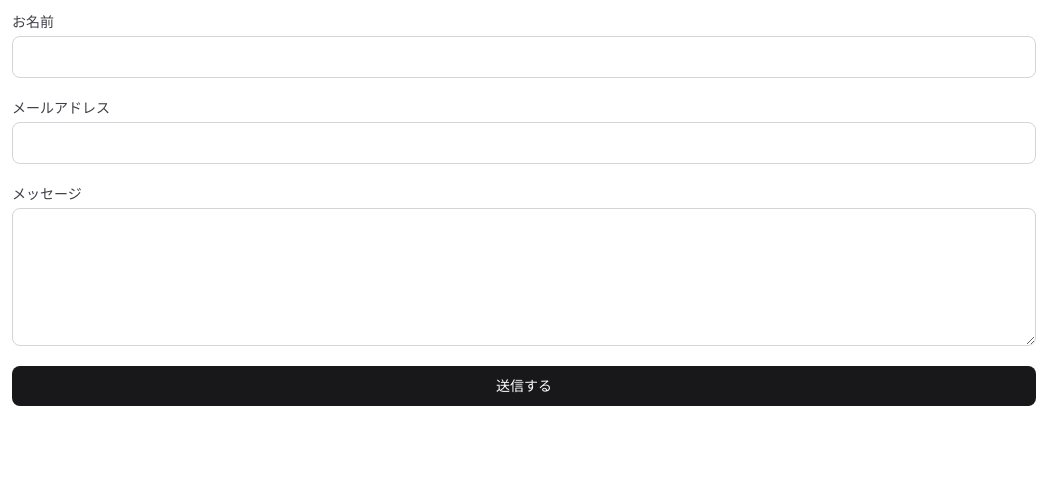
it: ContactForm › 送信失敗時にサーバーエラーメッセージを表示する
In the field labelled "お名前": (524,57) x1=12 y1=36 x2=1036 y2=78, type "テスト太郎"
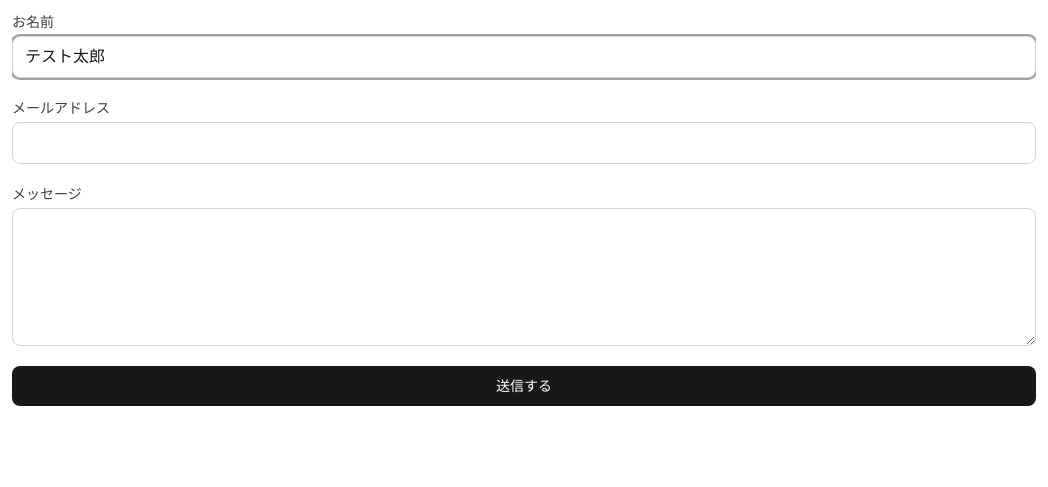
In the field labelled "メールアドレス": (524,143) x1=12 y1=122 x2=1036 y2=164, type "test@example.com"
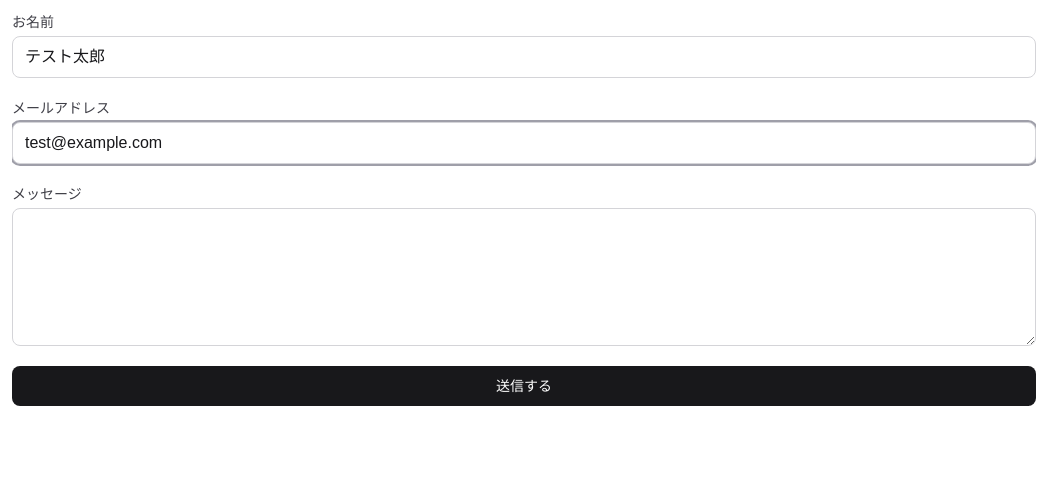
In the text box labelled "メッセージ": (524,277) x1=12 y1=208 x2=1036 y2=346, type "これはテストメッセージです。"
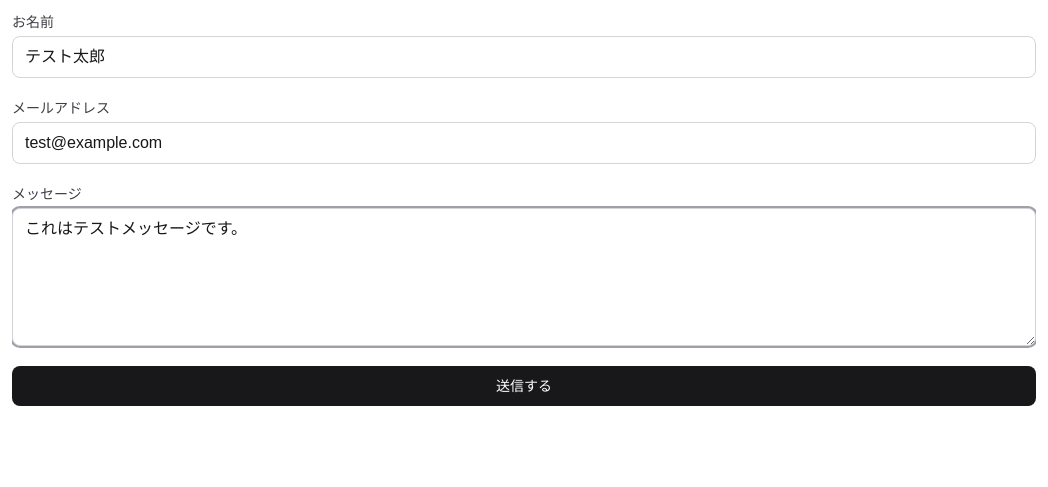
Click the button "送信する": (524,386) x1=12 y1=366 x2=1036 y2=406
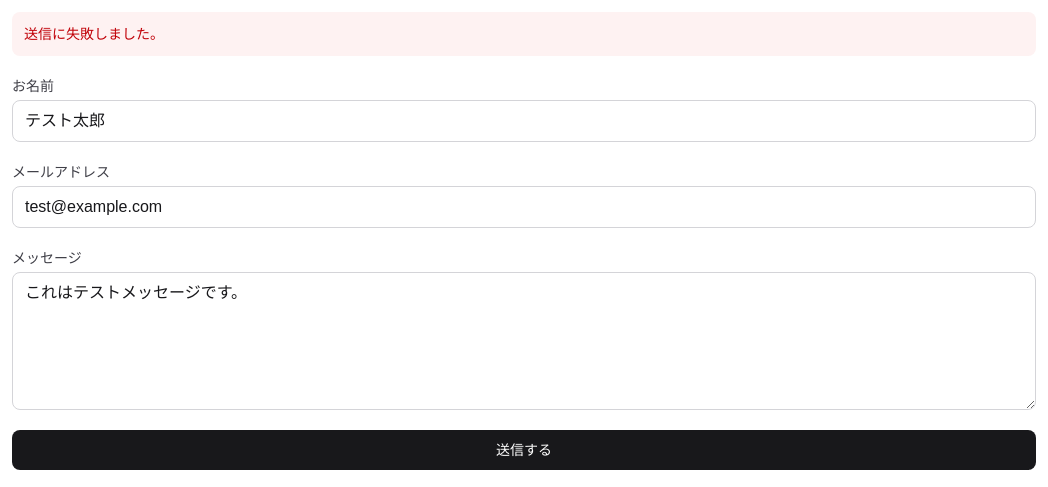
Check: the text "送信に失敗しました。" is shown, box x1=12 y1=12 x2=1036 y2=56
